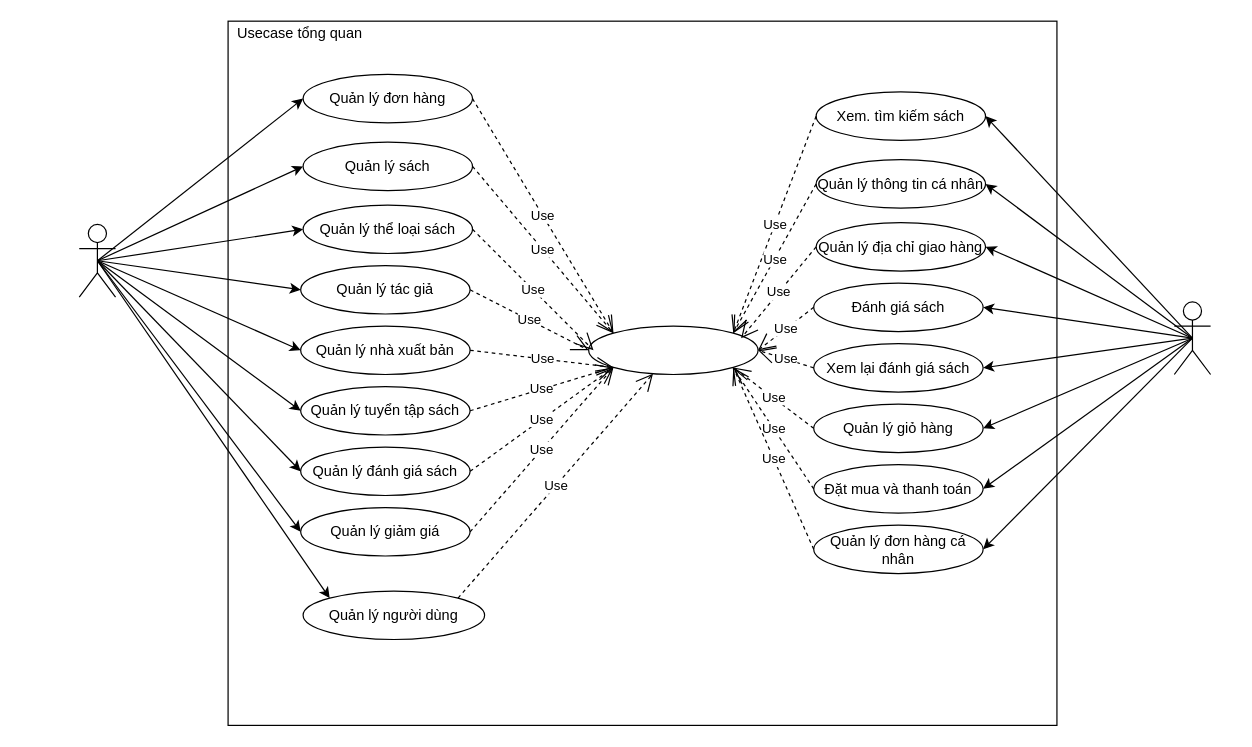
This 1252x747 diagram has some shape labels left out. The centre of each missing label's shape, as x and y in pixels:
Khách hàng: (1192,337)
Người quản trị hệ thống: (97,260)
Đăng nhập: (672,349)
